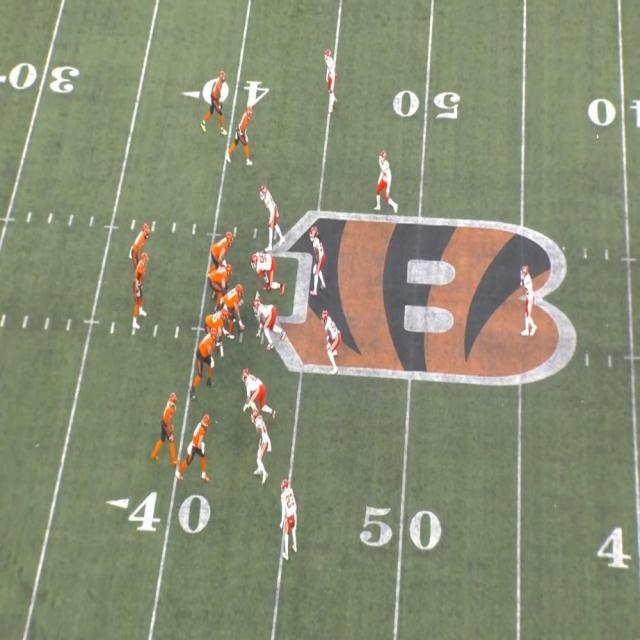center: (226, 286, 248, 325)
db: (250, 409, 273, 479), (518, 264, 539, 335), (278, 479, 298, 551), (376, 153, 393, 213), (324, 49, 338, 101)
lb: (320, 310, 340, 364), (308, 231, 326, 291)
qb: (133, 258, 148, 326)
skill: (204, 73, 232, 130), (189, 412, 213, 474), (158, 388, 180, 454), (232, 113, 254, 166), (132, 224, 150, 254)
